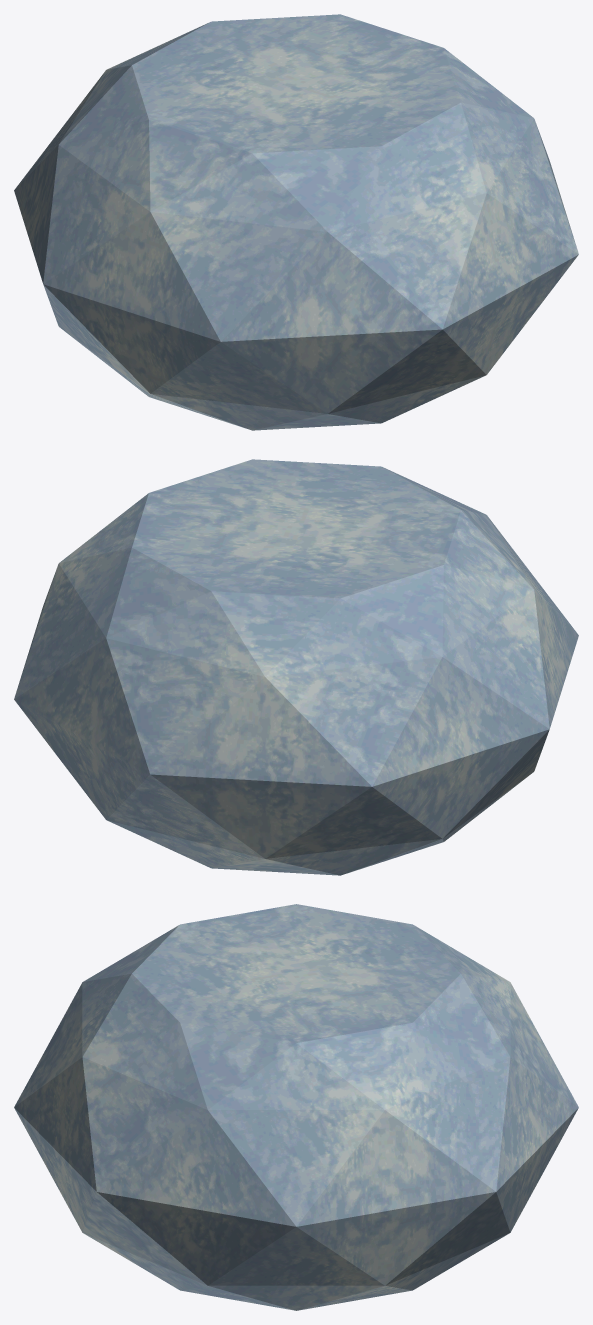
3 views of the same model, one above another, from view 1: azimuth 30°, elevation 25°; view 2: azimuth 150°, elevation 25°; view 3: azimuth 270°, elevation 25° (orthographic). The views are drawn at different scales.
Visible parts, largest first — view 1: world_root; view 2: world_root; view 3: world_root.
Part boxes in pixels (x1,y1,x2,y2): world_root: [14, 14, 578, 430]; world_root: [14, 459, 578, 875]; world_root: [14, 904, 578, 1310].
Size of the model in its own units: 117964 by 61688 by 117964.
1 material, 1 textured.
